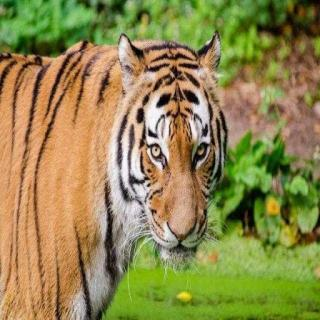Tiger: (0, 32, 229, 319)
